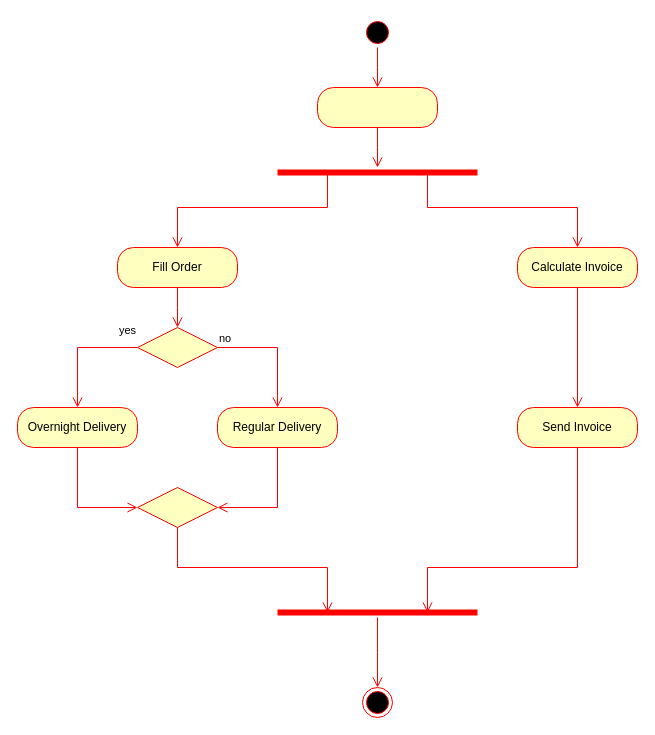
This 655x735 diagram has some shape labels left out. The shapes that lost their labels are listed below. From the top down, each one's centre as x and y in pixels, then its label:
[377,107]: Receive Order
[177,347]: Urgent?
